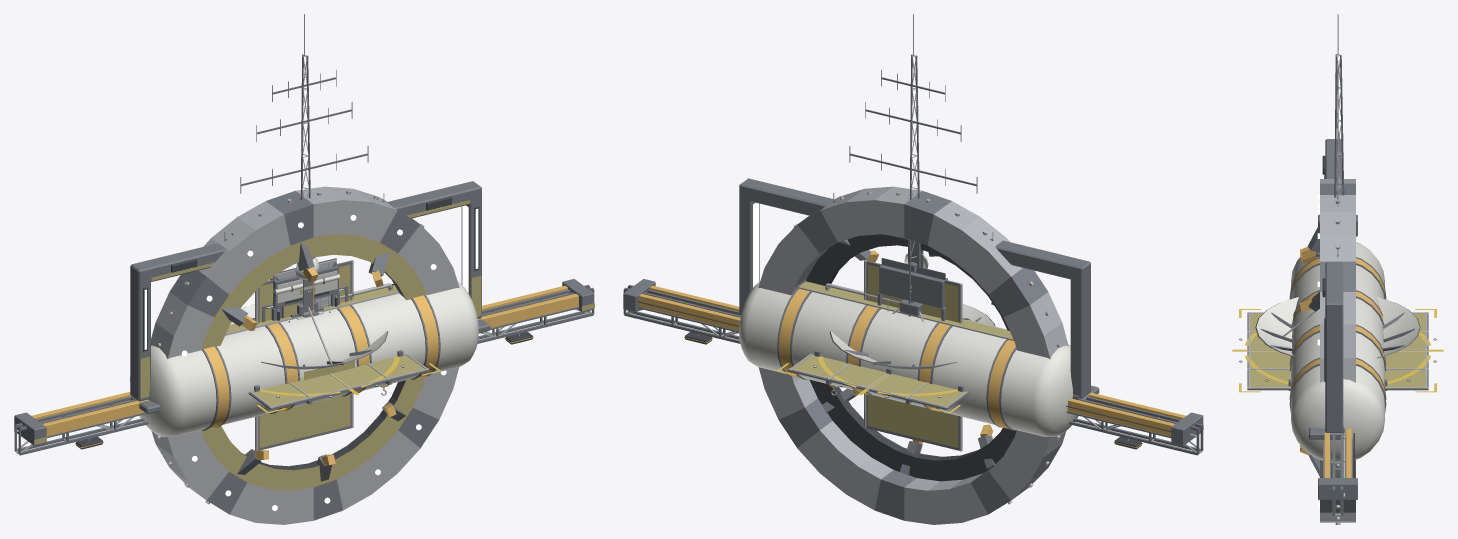
Rendered from station-kit.glb.
3 views of the same model, side by side, from view 1: azimuth 30°, elevation 25°; view 2: azimuth 150°, elevation 25°; view 3: azimuth 270°, elevation 25° (orthographic).
Parts seen in each view (by area): view 1: collar, tank, mouth_frame, hangar_crane, radiator, hangar_truss, solar, mast, window_bay, dish; view 2: collar, tank, mouth_frame, hangar_crane, radiator, hangar_truss, solar, mast, window_bay, dish; view 3: tank, collar, mouth_frame, solar, dish, hangar_crane, mast, pad_ring, hangar_truss.
Part boxes in pixels (bbox=[...]): collar: bbox=[151, 186, 459, 524]; tank: bbox=[130, 281, 478, 436]; mouth_frame: bbox=[130, 181, 490, 414]; hangar_crane: bbox=[14, 279, 594, 445]; radiator: bbox=[255, 260, 353, 450]; hangar_truss: bbox=[14, 284, 594, 455]; solar: bbox=[248, 353, 429, 409]; mast: bbox=[224, 14, 384, 303]; window_bay: bbox=[270, 265, 339, 320]; dish: bbox=[230, 302, 388, 369]; collar: bbox=[758, 186, 1068, 524]; tank: bbox=[739, 281, 1079, 436]; mouth_frame: bbox=[739, 178, 1099, 400]; hangar_crane: bbox=[623, 279, 1203, 445]; radiator: bbox=[864, 260, 962, 451]; hangar_truss: bbox=[623, 285, 1203, 455]; solar: bbox=[788, 353, 969, 409]; mast: bbox=[833, 14, 993, 316]; window_bay: bbox=[877, 265, 947, 320]; dish: bbox=[829, 300, 995, 369]; tank: bbox=[1288, 242, 1387, 463]; collar: bbox=[1299, 176, 1355, 524]; mouth_frame: bbox=[1309, 139, 1343, 439]; solar: bbox=[1247, 312, 1428, 390]; dish: bbox=[1255, 297, 1420, 358]; hangar_crane: bbox=[1318, 214, 1357, 499]; mast: bbox=[1334, 14, 1344, 256]; pad_ring: bbox=[1232, 309, 1443, 392]; hangar_truss: bbox=[1332, 433, 1345, 515].
Size of the model in its own units: 36.1 by 30.08 by 11.65.
